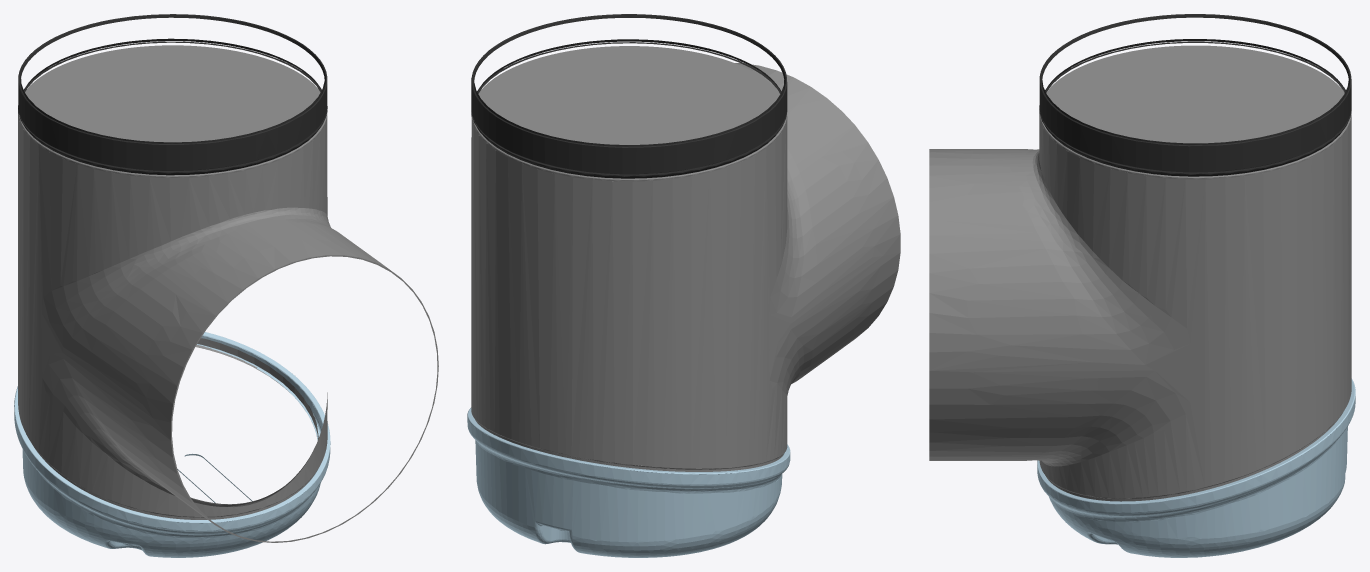
3 views of the same model, side by side, from view 1: azimuth 30°, elevation 25°; view 2: azimuth 150°, elevation 25°; view 3: azimuth 270°, elevation 25° (orthographic). The views are drawn at different scales.
Visible parts, largest first — view 1: eSeries_UR3e_034-mesh, eSeries_UR3e_050-mesh, eSeries_UR3e_052-mesh; view 2: eSeries_UR3e_034-mesh, eSeries_UR3e_050-mesh, eSeries_UR3e_052-mesh; view 3: eSeries_UR3e_034-mesh, eSeries_UR3e_050-mesh, eSeries_UR3e_052-mesh.
Boxes of the visible parts, bbox=[...] form: eSeries_UR3e_034-mesh: bbox=[18, 45, 438, 542]; eSeries_UR3e_050-mesh: bbox=[14, 332, 330, 557]; eSeries_UR3e_052-mesh: bbox=[18, 14, 327, 175]; eSeries_UR3e_034-mesh: bbox=[471, 46, 900, 471]; eSeries_UR3e_050-mesh: bbox=[467, 407, 790, 557]; eSeries_UR3e_052-mesh: bbox=[471, 14, 787, 178]; eSeries_UR3e_034-mesh: bbox=[929, 45, 1351, 501]; eSeries_UR3e_050-mesh: bbox=[1037, 378, 1355, 557]; eSeries_UR3e_052-mesh: bbox=[1039, 14, 1351, 176].
Size of the model in its own units: 0.0644 by 0.0969 by 0.086.
